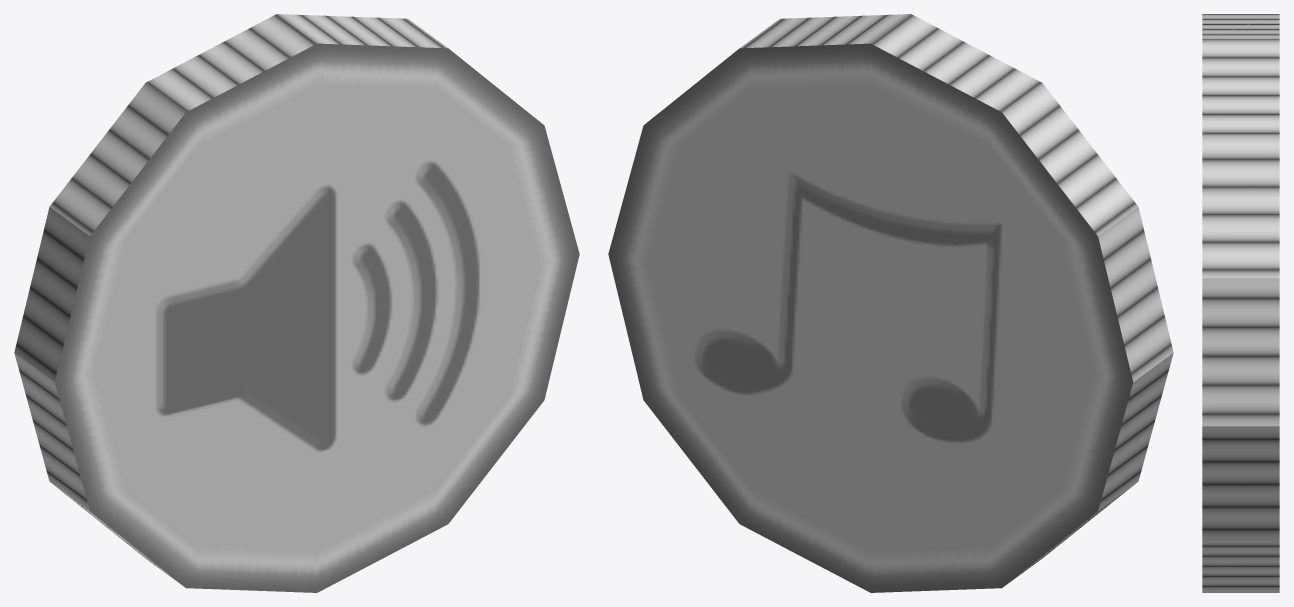
The model's file is Sound_Token.fbx.
The picture shows the model from 3 angles, left to right: view 1: azimuth 30°, elevation 25°; view 2: azimuth 150°, elevation 25°; view 3: azimuth 270°, elevation 25°; orthographic projection. The views are drawn at different scales.
Parts seen in each view (by area): view 1: Circle; view 2: Circle; view 3: Circle.
Part boxes in pixels (x1,y1,x2,y2): Circle: [14, 14, 579, 592]; Circle: [608, 14, 1173, 592]; Circle: [1202, 14, 1279, 592].
Bounding box in the file's own units: 3 × 3 × 0.4.
Materials: 1 (1 with a texture image).
